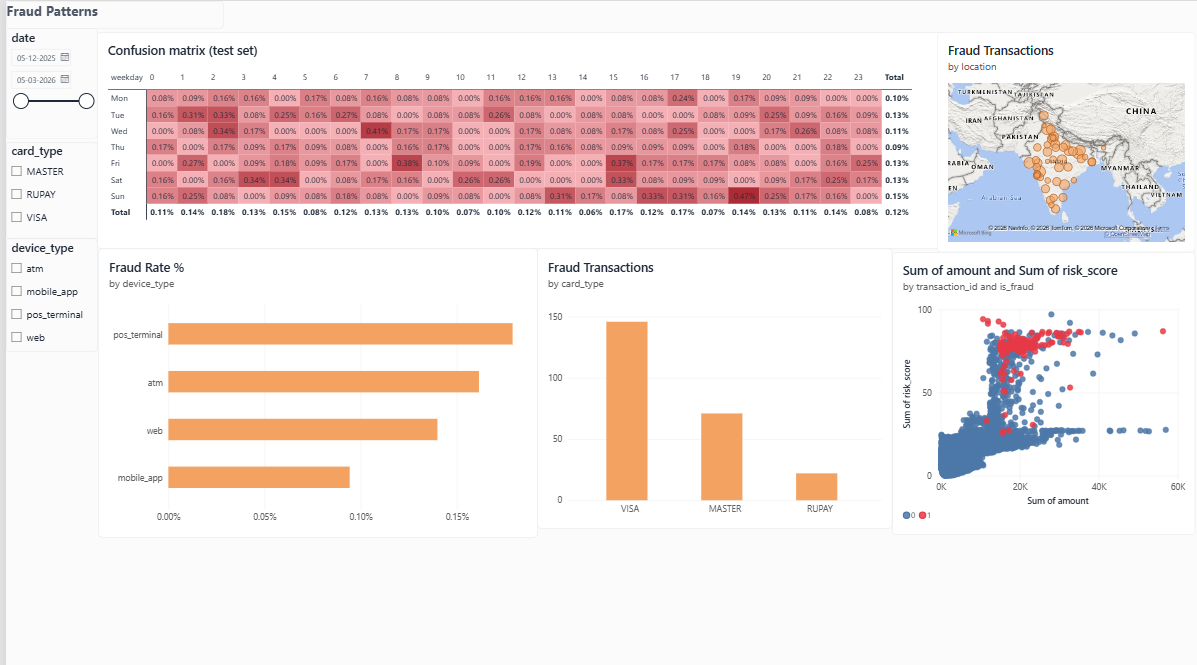

Layout of this report page (visuals, bound fields, positions):
{"tool":"powerbi","page":{"name":"Fraud Patterns","canvas":[1920,1080],"ordinal":1},"visuals":[{"type":"slicer","fields":{"Values":["dim_date.date"]},"box":[0,43.8,146,176],"z":0},{"type":"slicer","fields":{"Values":["fact_transactions.card_type"]},"box":[0,226,146,154],"z":1000},{"type":"slicer","fields":{"Values":["fact_transactions.device_type"]},"box":[0,380,146,181],"z":2000},{"type":"textbox","box":[0,0,348,44],"z":3000},{"type":"pivotTable","fields":{"Columns":["fact_transactions.hour"],"Rows":["dim_date.weekday"],"Values":["_Measures.Fraud Rate %"]},"box":[146,50,1068,304],"z":4000},{"type":"clusteredBarChart","fields":{"Category":["fact_transactions.device_type"],"Y":["_Measures.Fraud Rate %"]},"box":[145.6,354.4,584.4,386.7],"z":5000},{"type":"clusteredColumnChart","fields":{"Category":["fact_transactions.card_type"],"Y":["_Measures.Fraud Transactions"]},"box":[718.9,354.4,494.4,386.7],"z":6000},{"type":"scatterChart","fields":{"Category":["fact_transactions.transaction_id"],"Series":["fact_transactions.is_fraud"],"X":["Sum(fact_transactions.amount)"],"Y":["Sum(fact_transactions.risk_score)"]},"box":[1224.4,354.4,414.4,351.1],"z":8000},{"type":"map","fields":{"Category":["fact_transactions.location"],"Size":["_Measures.Fraud Transactions"]},"box":[1224,50,414,304],"z":8001}]}

Visuals, with their boxes in screenshot pixels (x1, y1, x2, y2), scaled from the page's 1920x1080 canvas onto the 1197x665 screenshot:
slicer - dim_date.date: {"x1": 0, "y1": 27, "x2": 91, "y2": 135}
slicer - fact_transactions.card_type: {"x1": 0, "y1": 139, "x2": 91, "y2": 234}
slicer - fact_transactions.device_type: {"x1": 0, "y1": 234, "x2": 91, "y2": 345}
textbox: {"x1": 0, "y1": 0, "x2": 217, "y2": 27}
pivotTable - fact_transactions.hour x dim_date.weekday: {"x1": 91, "y1": 31, "x2": 757, "y2": 218}
clusteredBarChart - fact_transactions.device_type x _Measures.Fraud Rate %: {"x1": 91, "y1": 218, "x2": 455, "y2": 456}
clusteredColumnChart - fact_transactions.card_type x _Measures.Fraud Transactions: {"x1": 448, "y1": 218, "x2": 756, "y2": 456}
scatterChart - fact_transactions.transaction_id x fact_transactions.is_fraud: {"x1": 763, "y1": 218, "x2": 1022, "y2": 434}
map - fact_transactions.location x _Measures.Fraud Transactions: {"x1": 763, "y1": 31, "x2": 1021, "y2": 218}
